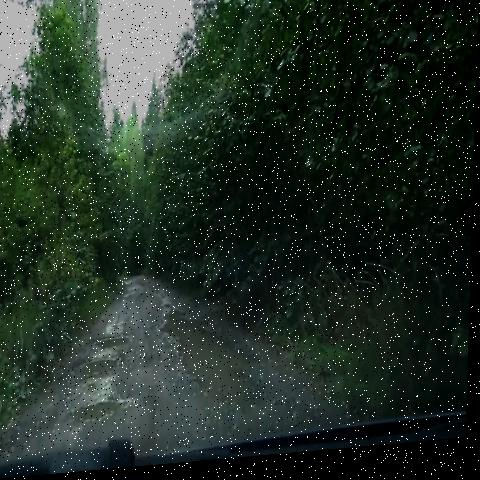pothole: (150, 285, 277, 435), (65, 393, 141, 435), (73, 354, 128, 392), (98, 328, 137, 362)
